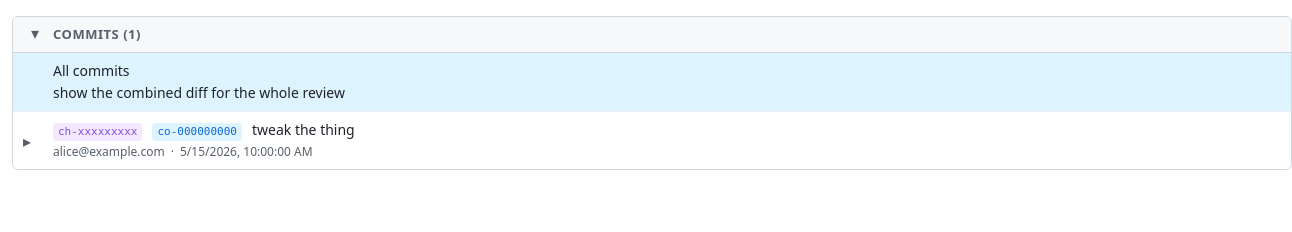
Test: CommitsPanel › expand toggle reveals the multiline description body
The width and height of the screenshot is (1292, 232).
Click the button with class "expand" showing "▸" at (27, 141), box [13,112,41,169]
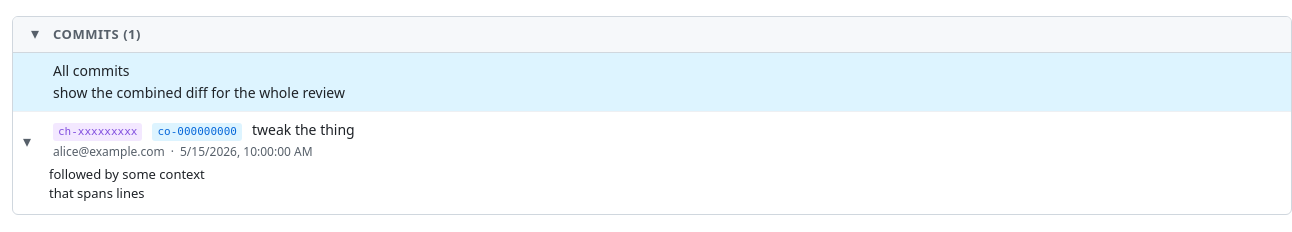
Result: the element with class "markdown" is shown at [49,165,205,202]
Result: the text "followed by some context" is shown at [49,165,205,183]
